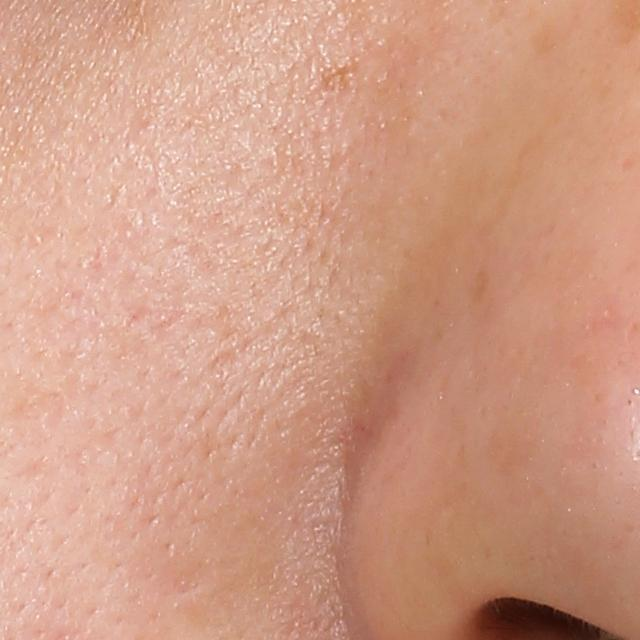melasma: (305, 52, 368, 106), (525, 1, 561, 60)
